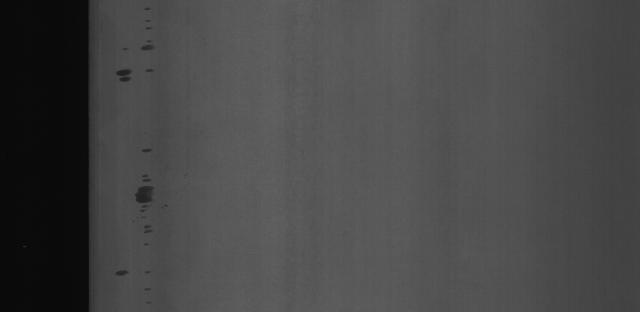oil_spot: (134, 144, 158, 240), (136, 7, 160, 74), (114, 48, 134, 90), (106, 255, 127, 290)
